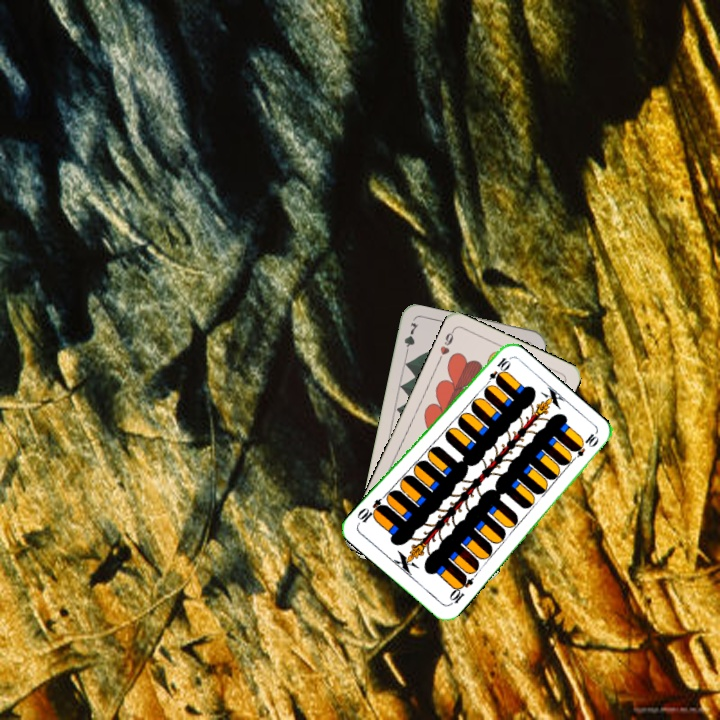E10: (445, 571, 476, 608), (481, 353, 511, 390)
G7: (400, 318, 421, 358)
H9: (434, 326, 457, 364)
